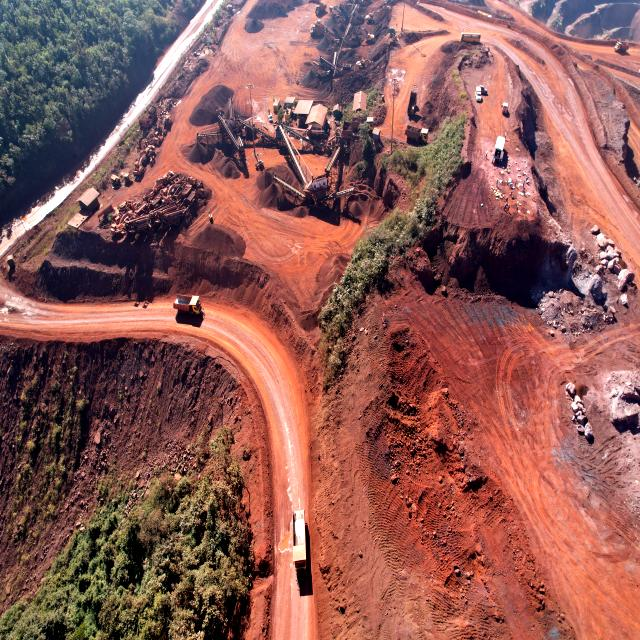Dumper truck: (293, 512, 308, 572), (175, 295, 202, 314), (352, 116, 372, 132), (408, 84, 418, 115), (407, 126, 428, 140), (310, 25, 326, 37), (315, 3, 327, 14), (614, 41, 628, 50)
Excavator: (132, 148, 148, 178), (153, 118, 168, 145), (356, 25, 375, 44), (366, 8, 385, 24), (356, 58, 377, 69)
car: (476, 87, 482, 102), (502, 102, 508, 114), (482, 86, 488, 94)
person: (514, 178, 518, 186), (486, 150, 488, 158), (496, 178, 498, 186), (272, 94, 274, 101), (505, 132, 507, 138), (523, 180, 525, 186)
